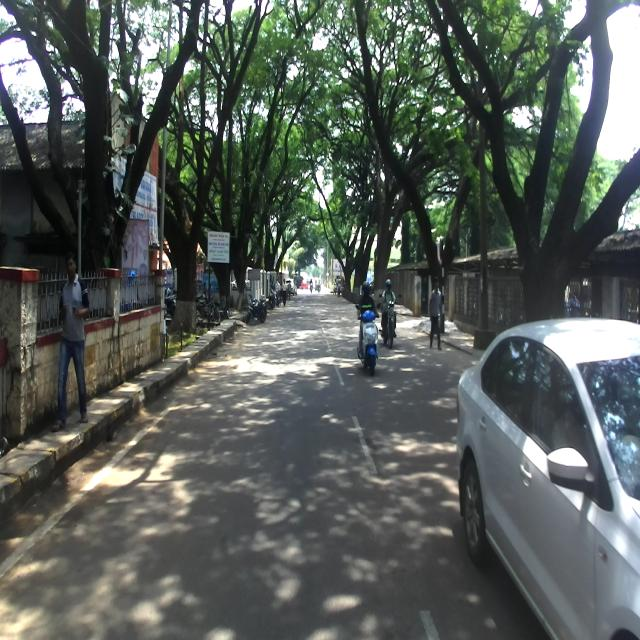car ahead at: (455, 313, 640, 640)
motorcycle ahead at: (354, 298, 385, 376)
person ahead at: (55, 253, 93, 427)
